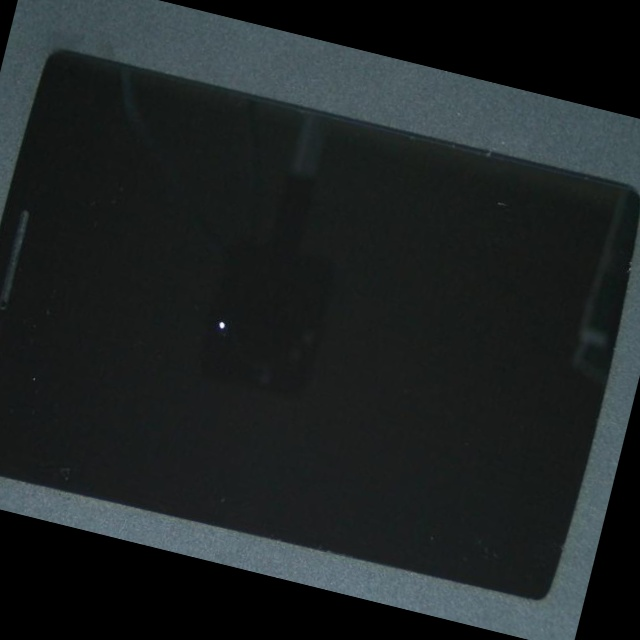stain: (8, 134, 371, 525)
